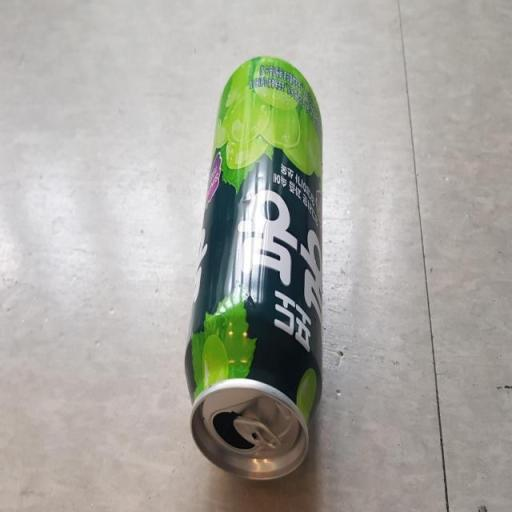metal: (172, 55, 342, 492)
